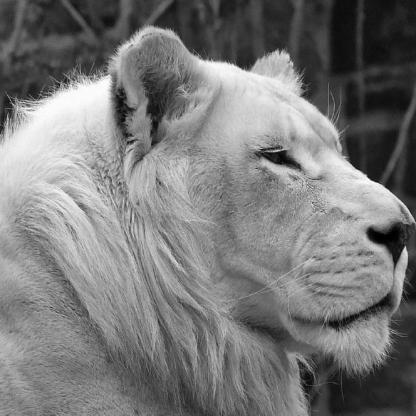lion: (110, 29, 416, 416)
